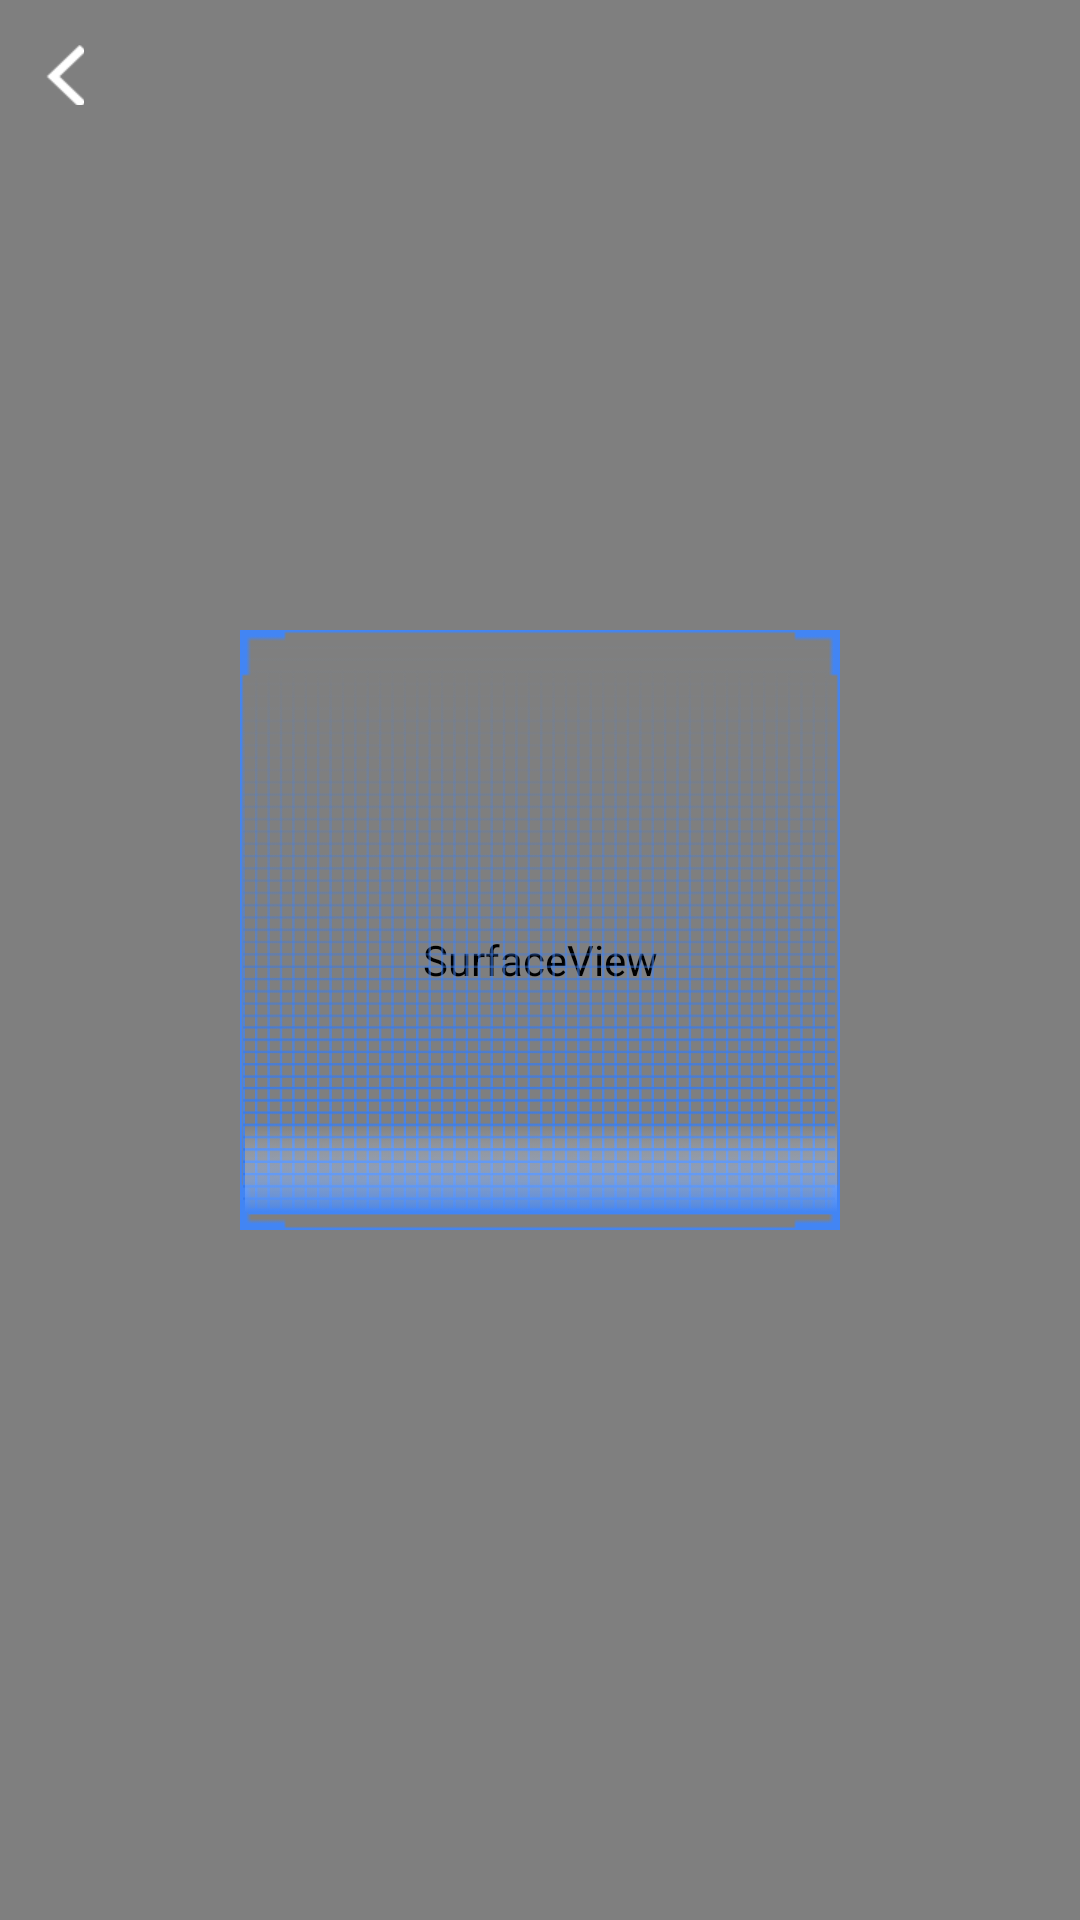

Named icons in this screenshot (1080px x 1920px) and their centers, (x=x, y=y):
left arrow: (x=65, y=75)
